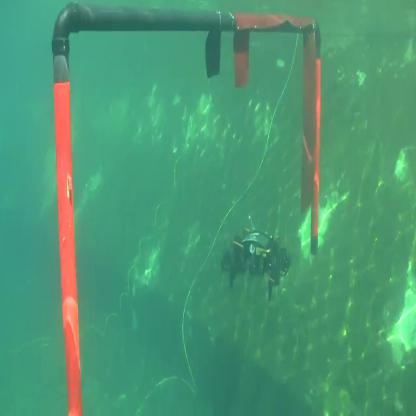gate: (49, 6, 325, 244)
